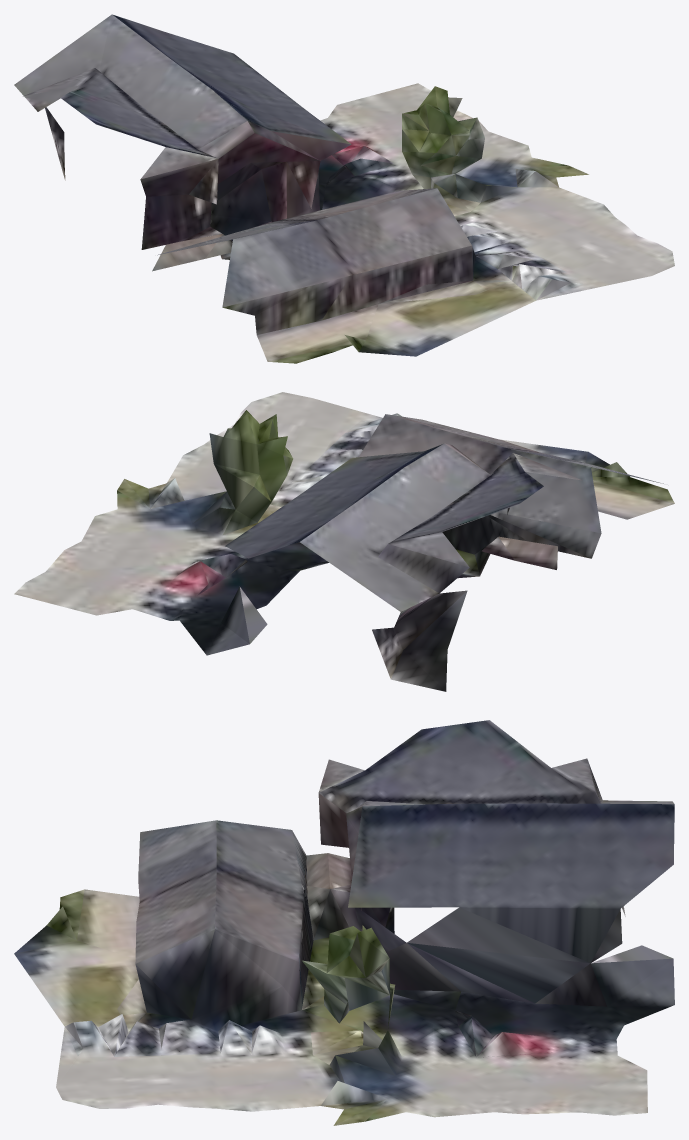
File: Tile_+006_+008.glb
3 renders of one model, top to bottom at view 1: azimuth 30°, elevation 25°; view 2: azimuth 150°, elevation 25°; view 3: azimuth 270°, elevation 25°, orthographic. The views are drawn at different scales.
Visible parts, largest first — view 1: rtc; view 2: rtc; view 3: rtc.
Boxes of the visible parts, x1,y1,x2,y2 form: rtc: (14, 14, 674, 363); rtc: (14, 392, 674, 691); rtc: (14, 720, 674, 1125).
Bounding box in the file's own units: 48.61 × 14.72 × 54.02.
1 material, 1 textured.
